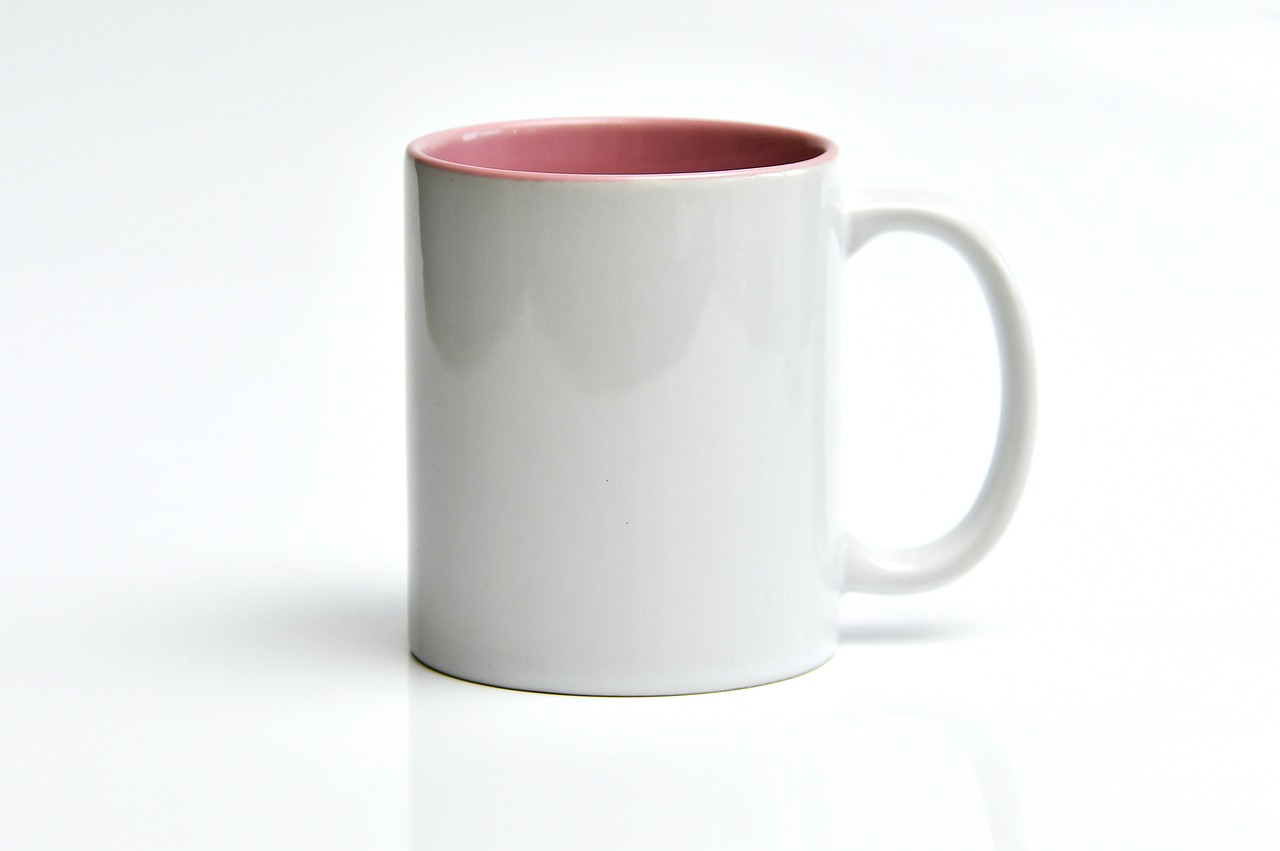mug: (360, 98, 1070, 729)
